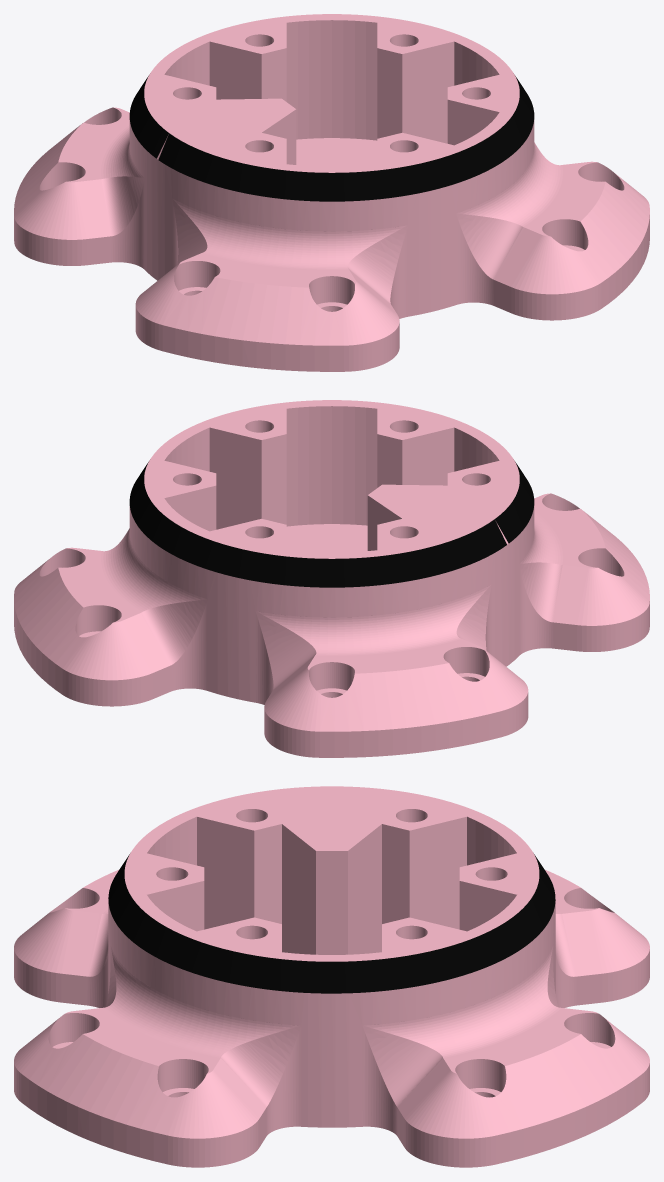
Rendered from Astorino base.dae.
3 renders of one model, top to bottom at view 1: azimuth 30°, elevation 25°; view 2: azimuth 150°, elevation 25°; view 3: azimuth 270°, elevation 25°, orthographic. The views are drawn at different scales.
Visible parts, largest first — view 1: Astorino Robot Base; view 2: Astorino Robot Base; view 3: Astorino Robot Base.
Part boxes in pixels (bbox=[...]): Astorino Robot Base: bbox=[14, 14, 649, 371]; Astorino Robot Base: bbox=[14, 400, 649, 757]; Astorino Robot Base: bbox=[14, 786, 649, 1167].
Size of the model in its own units: 0.1992 by 0.1992 by 0.055.
